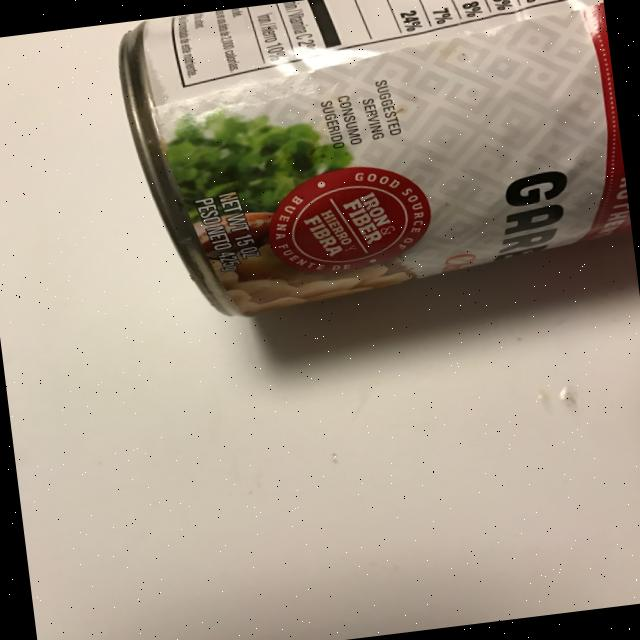metal: (112, 0, 635, 329)
